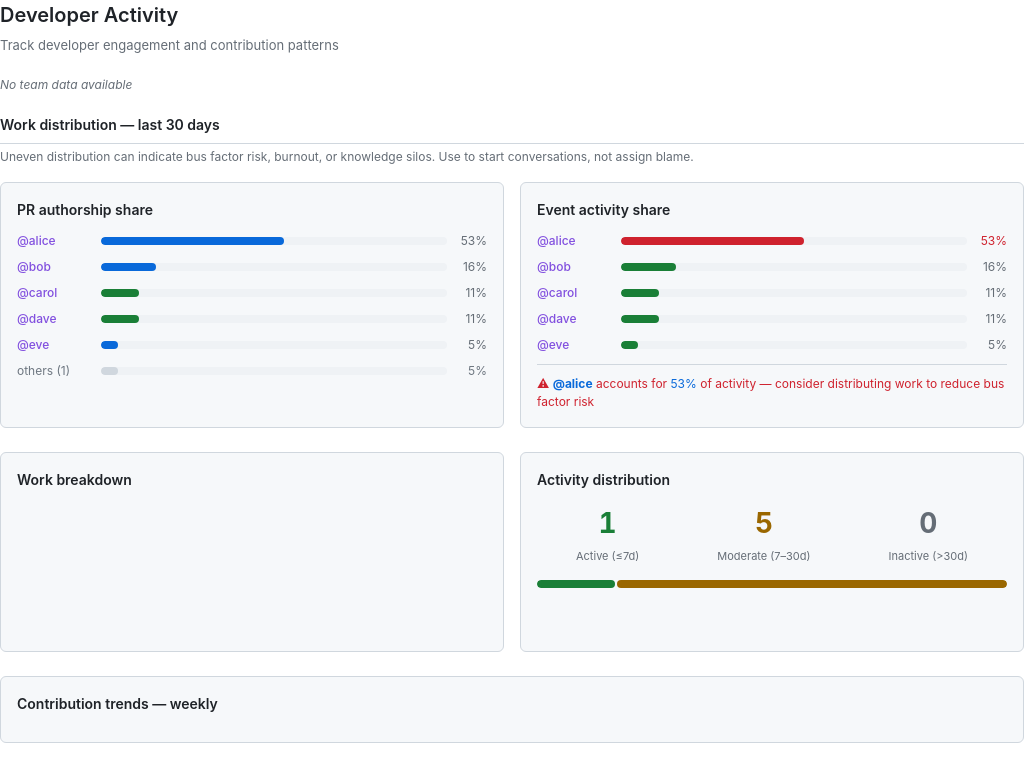
Test: DevActivityPage › Others row opens modal on click
Click the button "others (1) 5%" at [252, 370], box [13,360,491,382]
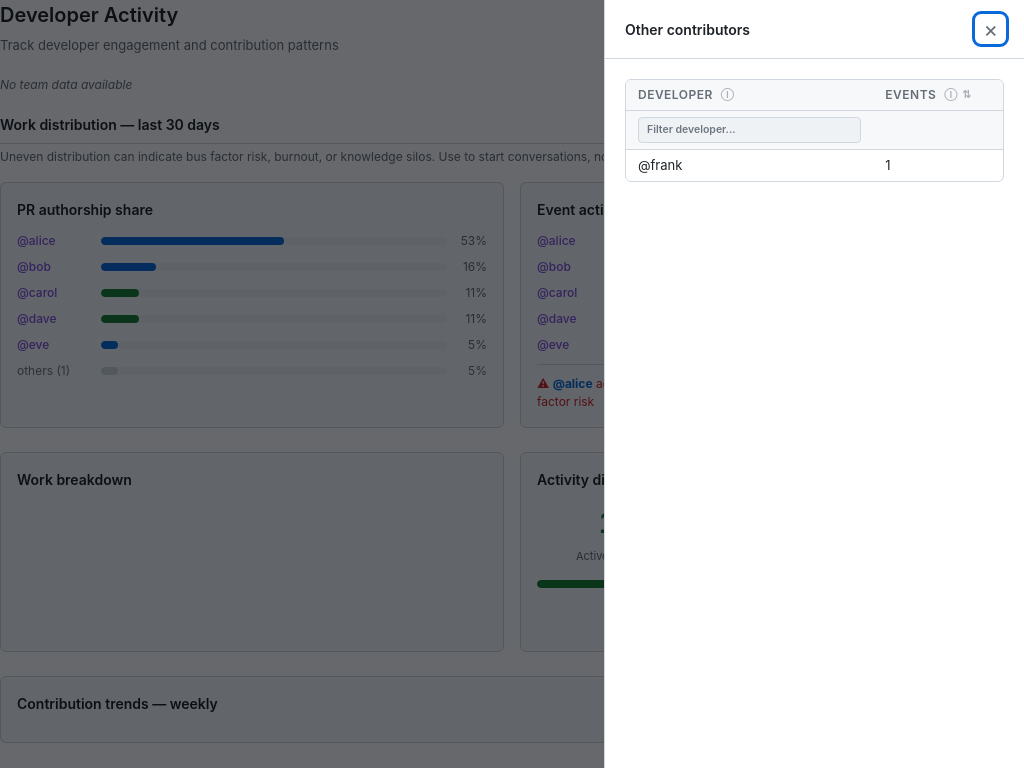
Expected: the text "Other contributors" is shown, [625,18,750,40]
Expected: the text "@frank" is shown, [626,149,873,181]
